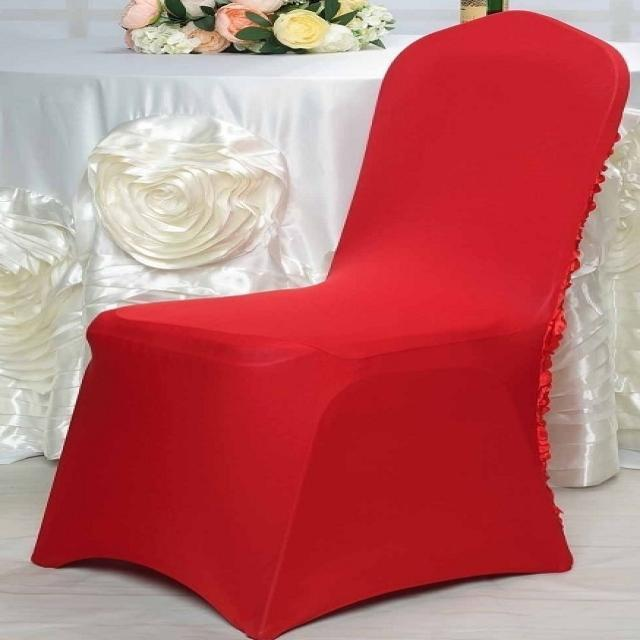chair: (29, 7, 628, 640)
